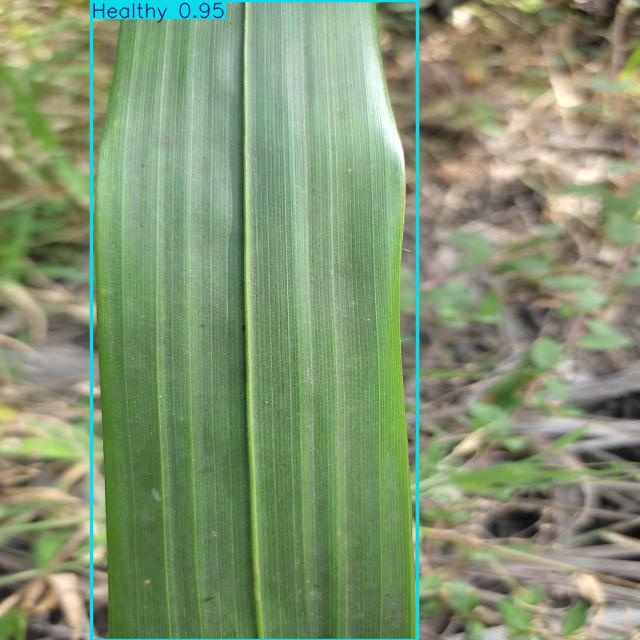Healthy: (92, 0, 417, 640)
